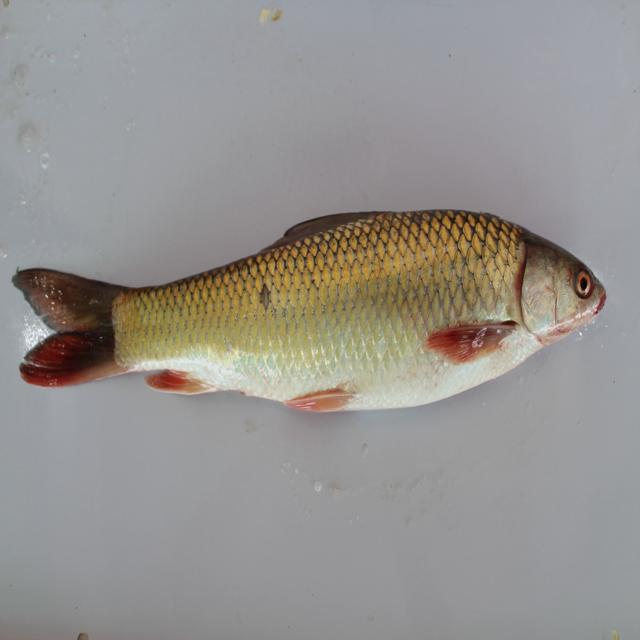Mori: (6, 199, 624, 425)
